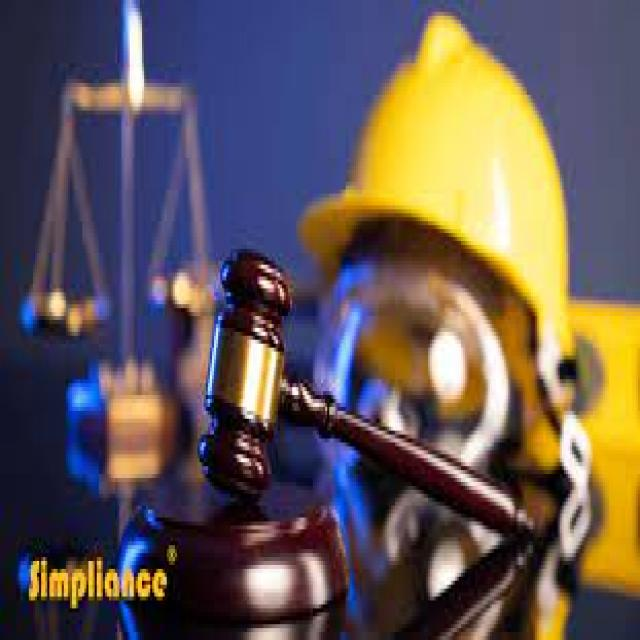Safety-Helmet: (292, 16, 589, 336)
